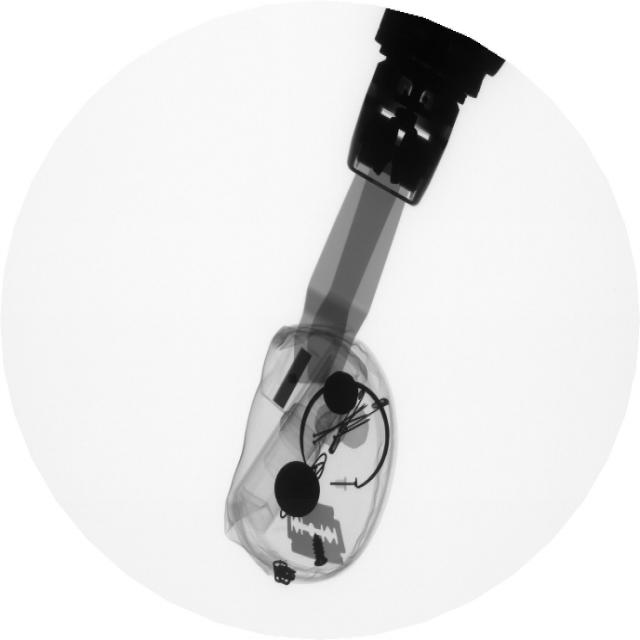BLADE: (283, 490, 348, 569)
